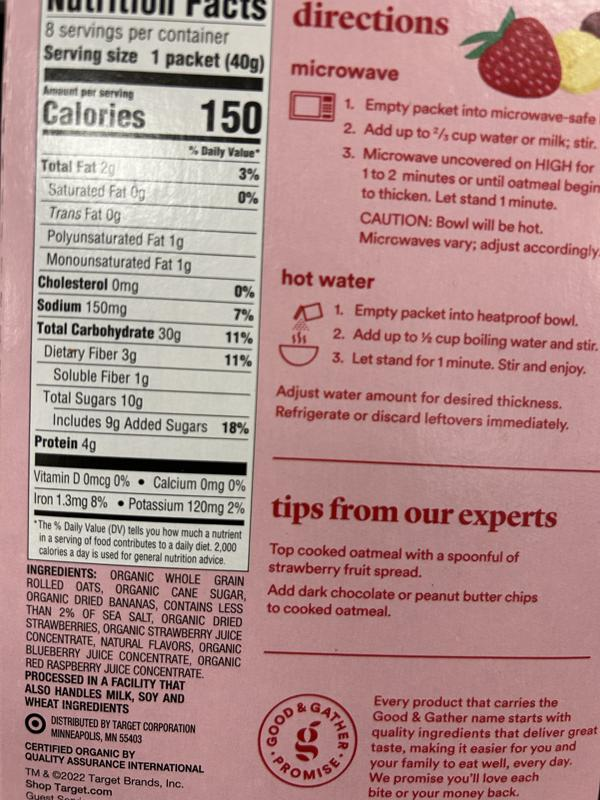ingredients: (22, 562, 248, 680)
